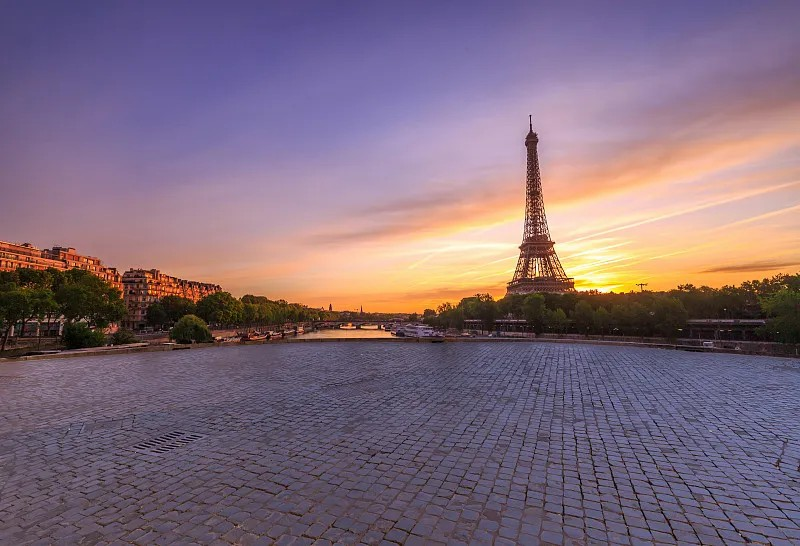Eiffel: (504, 114, 578, 297)
